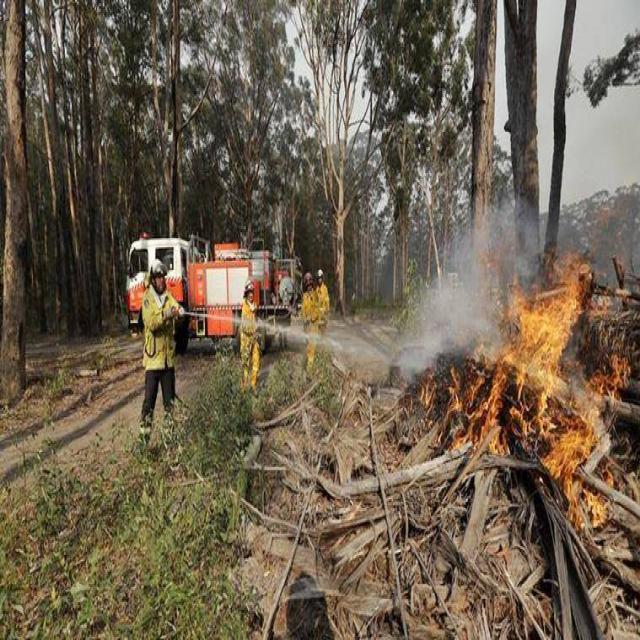Fire: (515, 284, 613, 530), (426, 361, 510, 458)
Smoke: (414, 260, 501, 342)
